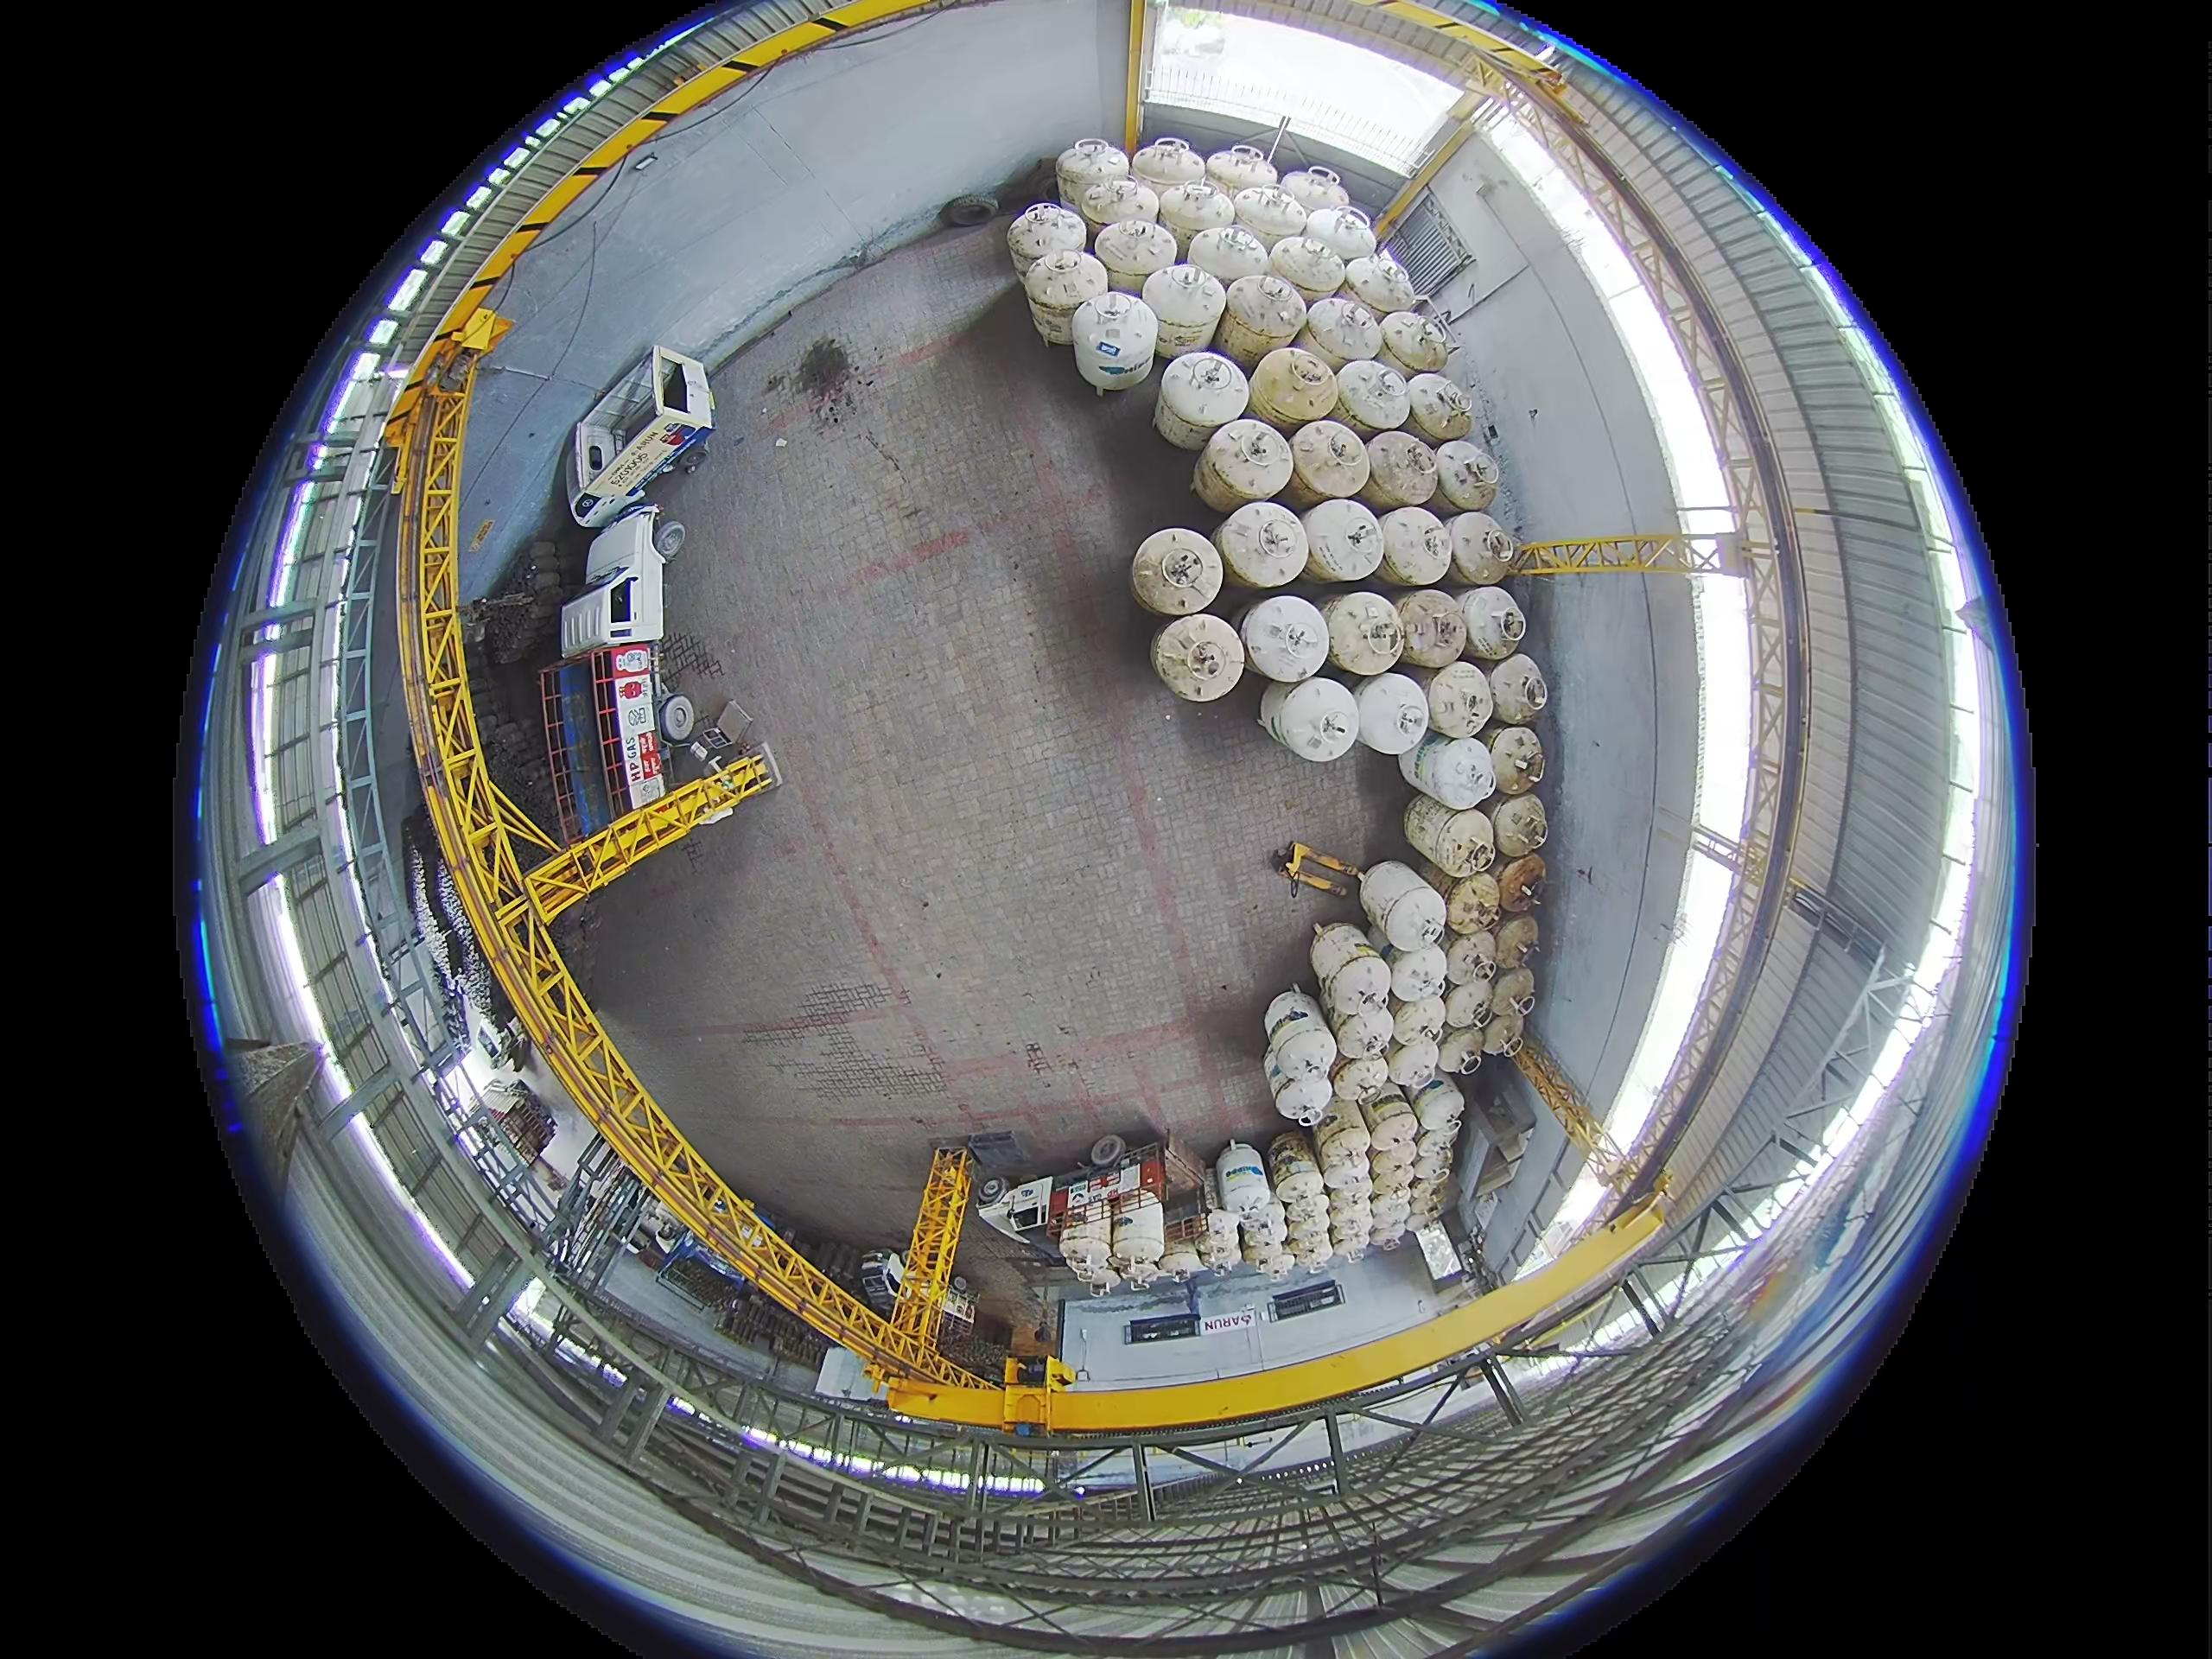cylinder: (1155, 615, 1259, 730), (1078, 288, 1160, 401), (1195, 420, 1292, 514), (1214, 272, 1305, 371), (1214, 498, 1310, 591), (1155, 357, 1247, 453), (1132, 528, 1228, 619), (1249, 345, 1341, 437), (1238, 594, 1332, 683), (1402, 795, 1496, 880), (1399, 734, 1496, 816), (1017, 249, 1097, 349), (1357, 859, 1446, 946), (1143, 267, 1226, 359), (1273, 678, 1360, 763), (1299, 498, 1385, 582), (1289, 418, 1372, 504), (1322, 592, 1406, 676), (1263, 1026, 1338, 1115), (1332, 357, 1413, 437), (1378, 505, 1456, 586), (1353, 674, 1432, 755), (1157, 179, 1237, 258), (1188, 223, 1275, 295), (1364, 430, 1440, 509), (1393, 589, 1470, 667), (1425, 660, 1498, 742), (1007, 202, 1083, 279), (1303, 295, 1383, 366), (1096, 218, 1176, 289), (1268, 232, 1346, 301), (1322, 950, 1395, 1023), (1082, 178, 1157, 249), (1057, 138, 1129, 213), (1233, 185, 1310, 254), (1447, 511, 1517, 586), (1458, 586, 1527, 660), (1379, 312, 1456, 380), (1308, 920, 1379, 992), (1433, 439, 1503, 512), (1402, 373, 1472, 444), (1303, 204, 1378, 270), (1343, 251, 1420, 315), (1129, 138, 1205, 202), (1486, 653, 1550, 725), (1263, 986, 1329, 1053), (1484, 725, 1545, 796), (1216, 1138, 1273, 1209), (1207, 145, 1280, 200), (1489, 791, 1550, 857), (1444, 871, 1505, 938), (1386, 948, 1449, 1011), (1111, 1195, 1165, 1265), (1331, 1006, 1395, 1063), (1442, 929, 1501, 990), (1383, 1032, 1442, 1093), (1268, 1133, 1322, 1199), (1282, 167, 1352, 218), (1362, 1093, 1420, 1154), (1411, 1079, 1467, 1138), (1198, 1211, 1247, 1277), (1315, 1103, 1371, 1161), (1440, 979, 1496, 1035), (1388, 999, 1444, 1054), (1496, 852, 1548, 911), (1332, 1051, 1392, 1101), (1435, 1023, 1487, 1073), (1487, 965, 1534, 1021), (1493, 915, 1540, 967), (1413, 1121, 1461, 1169), (1479, 1011, 1526, 1061), (1327, 1201, 1371, 1253), (1285, 1227, 1332, 1270), (1282, 1195, 1331, 1236), (1322, 1155, 1371, 1194), (1240, 1220, 1278, 1269), (1157, 1246, 1207, 1283), (1367, 1194, 1411, 1236), (1369, 1162, 1418, 1199), (1062, 1223, 1111, 1258), (1406, 1190, 1447, 1230), (1261, 1246, 1298, 1281)
truck: (549, 511, 719, 833), (568, 347, 719, 532), (859, 1187, 991, 1321)
